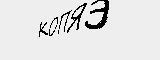К: (32, 17, 49, 39)
О: (47, 16, 58, 36)
П: (57, 10, 70, 36)
Э: (83, 1, 113, 29)
Я: (65, 1, 85, 34)
